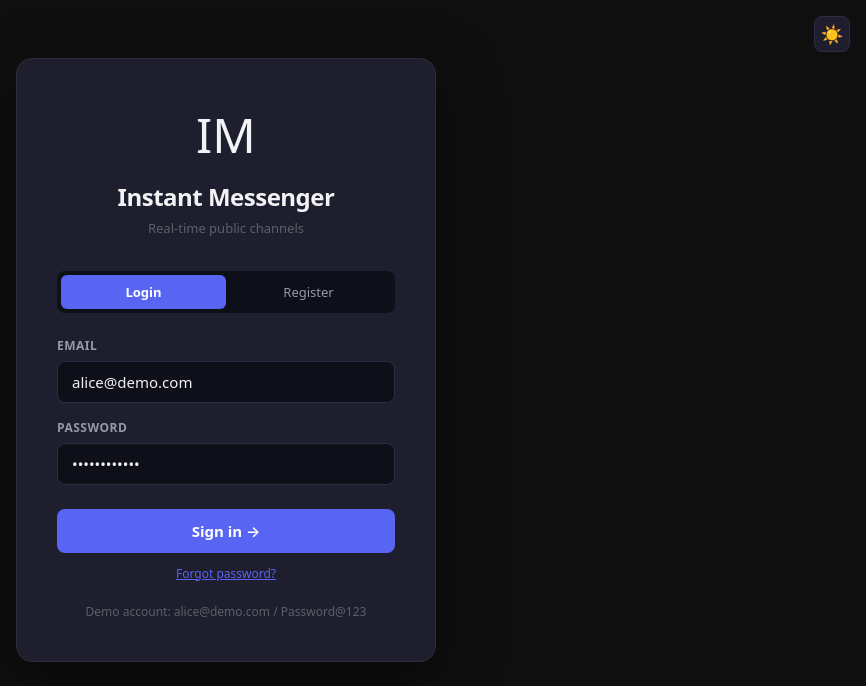
Test: LoginPage › shows username field only after switching to register tab
Expected: the field labelled "username" is not shown
Click the button "Register" at (308, 292), box 226,275 -> 391,309
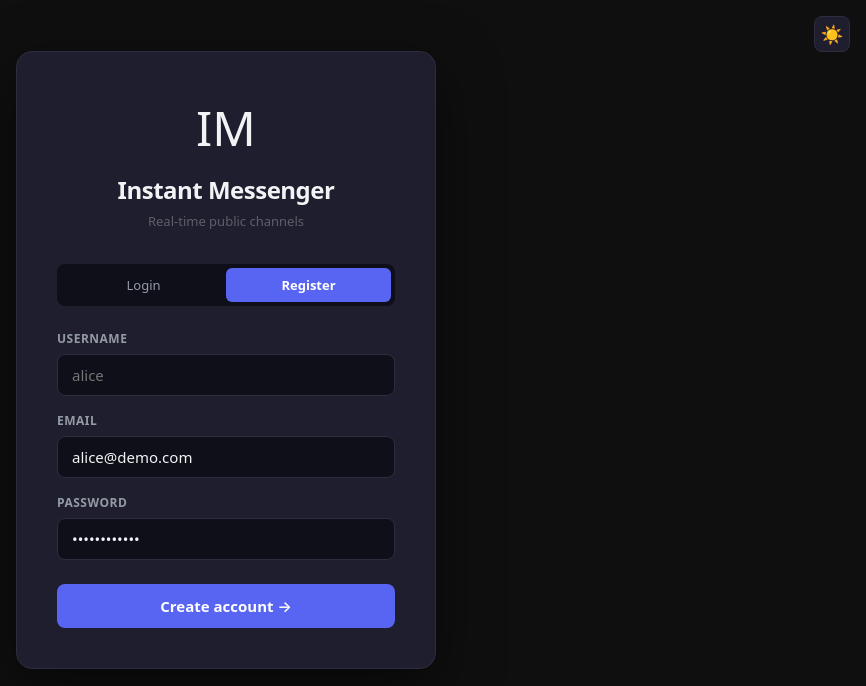
Expected: the field labelled "Username" is shown, 57,354 -> 395,396
